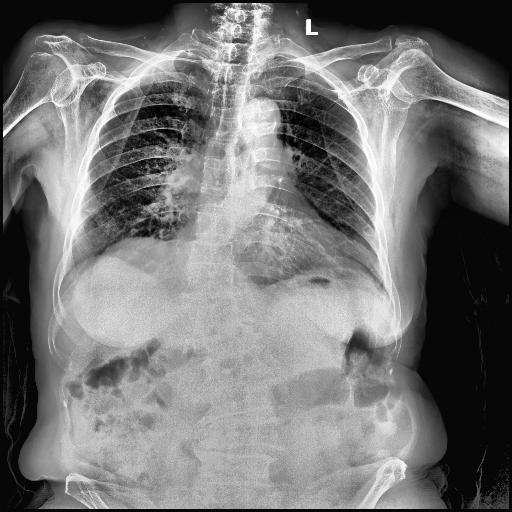0- Aortic enlargement: (240, 96, 284, 145), (248, 95, 284, 138), (238, 98, 280, 132)
3- Cardiomegaly: (191, 214, 384, 300), (197, 206, 382, 290), (190, 224, 348, 266)
7- Lung Opacity: (96, 235, 174, 272)
